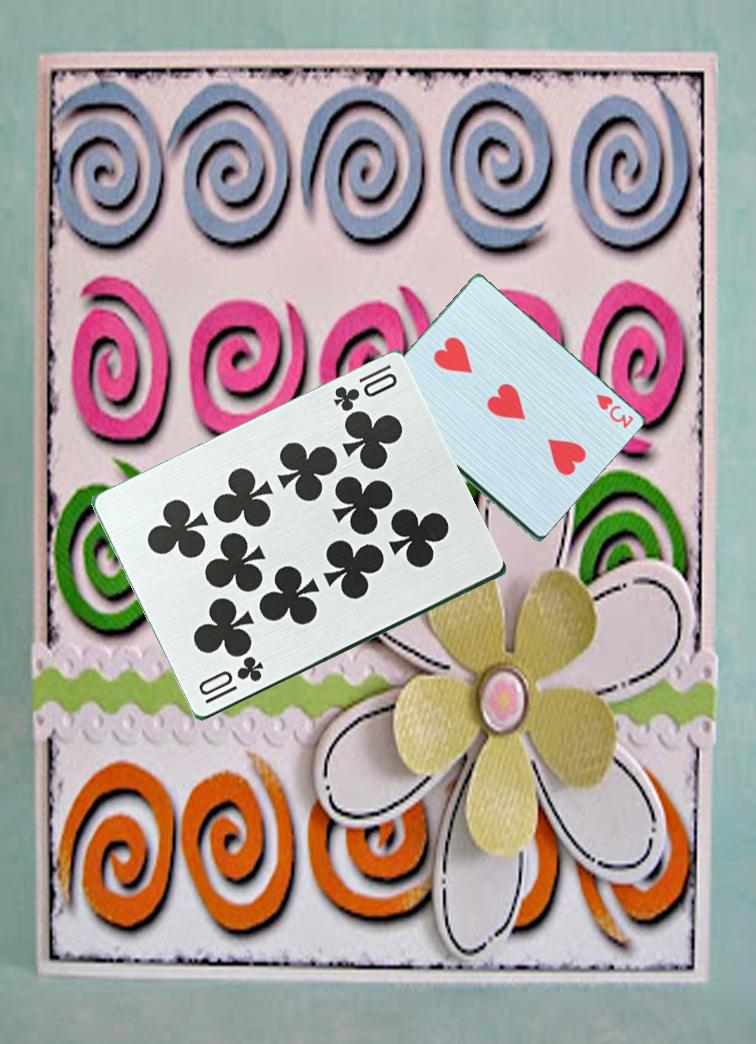3h: (584, 390, 636, 432)
tc: (188, 651, 269, 708), (329, 361, 401, 416)
